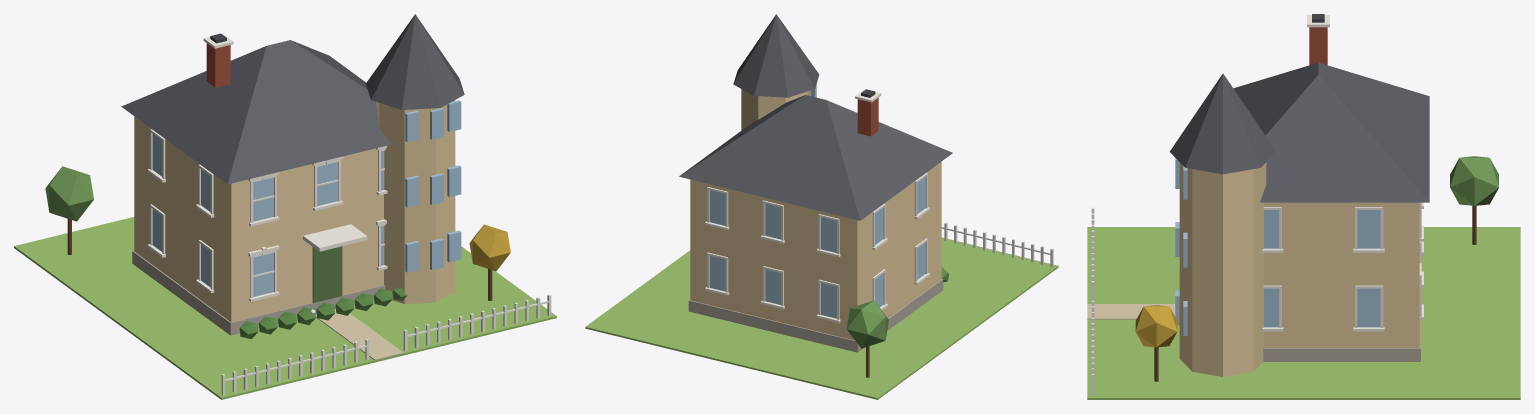
Rendered from Konut_villa_2_Hafif.fbx.
The picture shows the model from 3 angles, left to right: view 1: azimuth 30°, elevation 25°; view 2: azimuth 150°, elevation 25°; view 3: azimuth 270°, elevation 25°; orthographic projection. The views are drawn at different scales.
Parts seen in each view (by area): view 1: Konut_villa_2_Hafif; view 2: Konut_villa_2_Hafif; view 3: Konut_villa_2_Hafif.
Boxes of the visible parts, <box> form: Konut_villa_2_Hafif: <box>14,14,556,399</box>; Konut_villa_2_Hafif: <box>585,14,1058,399</box>; Konut_villa_2_Hafif: <box>1087,14,1520,399</box>.
Size of the model in its own units: 14 by 10.98 by 15.
